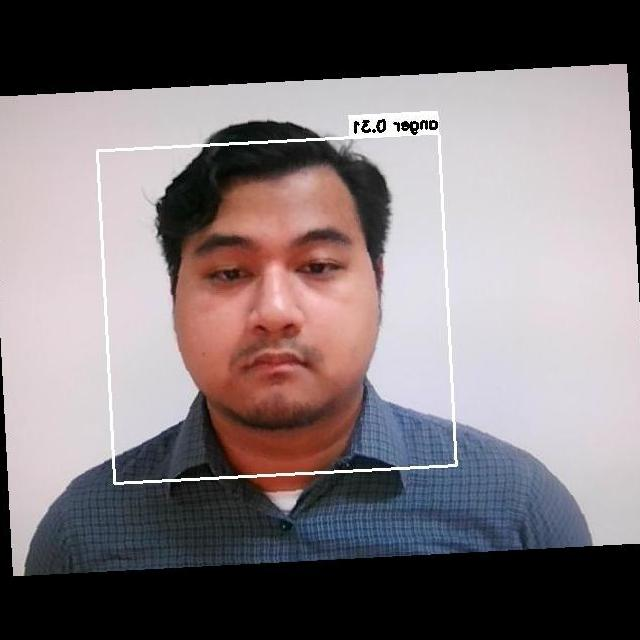Natural: (181, 227, 389, 401)
